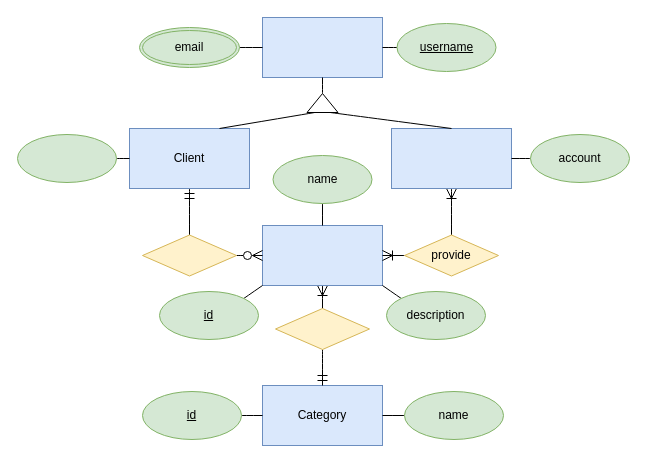
Image size: 647x463. Some labels were removed from this diagram. Here are the shapes that lost their labels. From the top down, the centre of each, then its label:
(x=322, y=47): User
(x=66, y=158): bag
(x=451, y=158): Supplier
(x=189, y=255): get
(x=322, y=255): Services
(x=322, y=329): has
